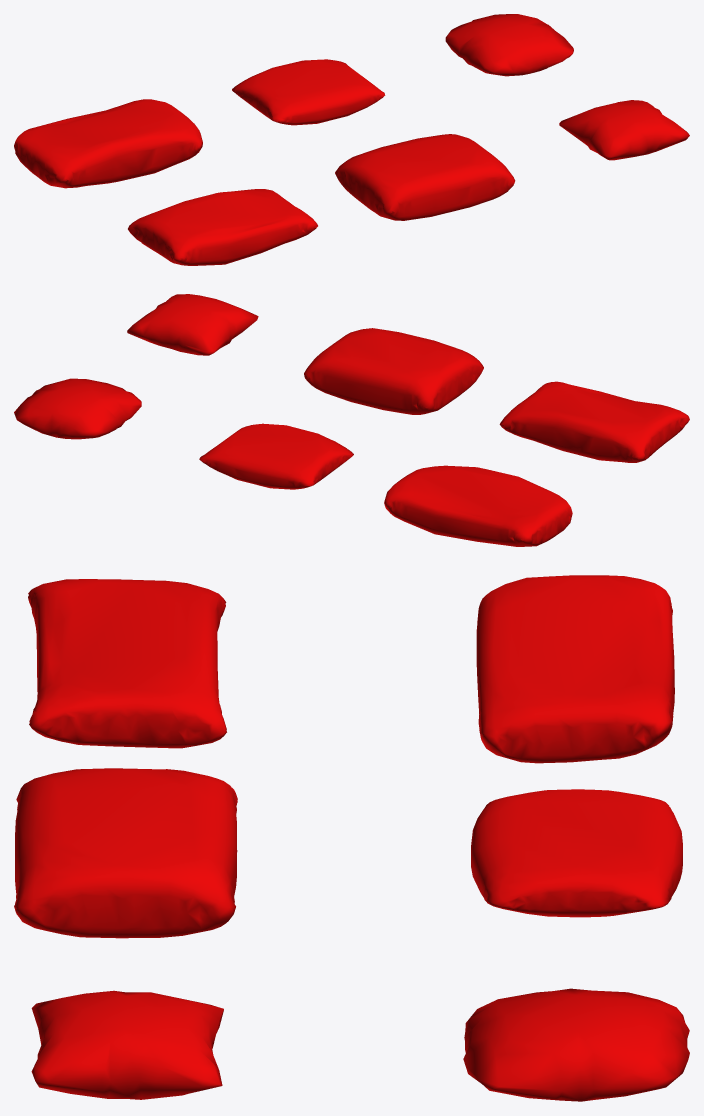
File: pillows_grp.fbx
3 renders of one model, top to bottom at view 1: azimuth 30°, elevation 25°; view 2: azimuth 150°, elevation 25°; view 3: azimuth 270°, elevation 25°, orthographic. The views are drawn at different scales.
Visible parts, largest first — view 1: pillow_2, pillow_3, pillow_1, pillow_4, pillow_6, pillow_5; view 2: pillow_2, pillow_3, pillow_1, pillow_4, pillow_6, pillow_5; view 3: pillow_3, pillow_2, pillow_1, pillow_4, pillow_6, pillow_5.
Part boxes in pixels (<box>): pillow_2: <box>14,99,202,188</box>; pillow_3: <box>335,134,515,220</box>; pillow_1: <box>128,189,317,265</box>; pillow_4: <box>232,59,385,125</box>; pillow_6: <box>445,14,573,76</box>; pillow_5: <box>559,100,689,160</box>; pillow_2: <box>384,465,572,546</box>; pillow_3: <box>304,328,483,414</box>; pillow_1: <box>499,381,689,462</box>; pillow_4: <box>199,423,353,489</box>; pillow_6: <box>14,378,141,439</box>; pillow_5: <box>127,294,258,355</box>; pillow_3: <box>14,768,237,938</box>; pillow_2: <box>476,575,674,763</box>; pillow_1: <box>28,579,226,748</box>; pillow_4: <box>471,789,682,917</box>; pillow_6: <box>463,988,689,1101</box>; pillow_5: <box>31,990,223,1099</box>.
Size of the model in its own units: 262 by 21.1 by 150.
